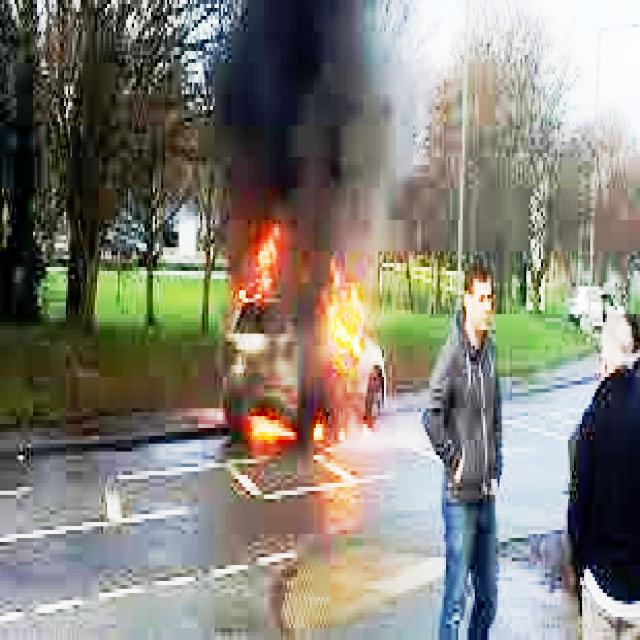api: (218, 233, 381, 457)
